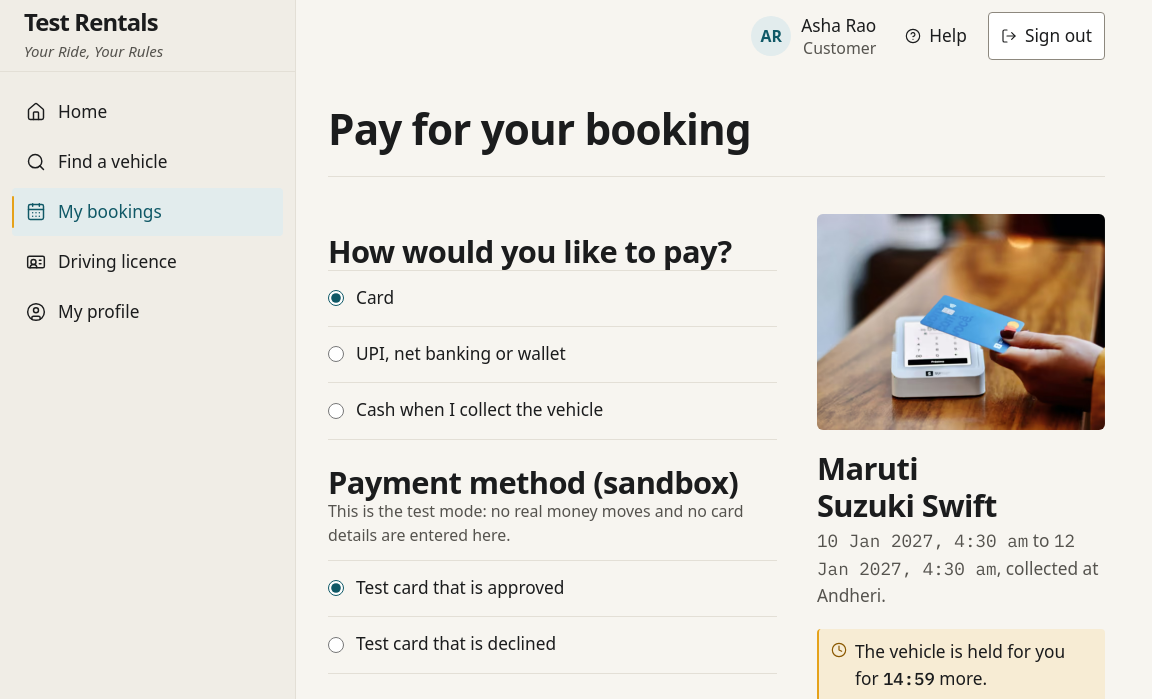
payment (Pay.Authorize, Exp 4 sequence 1) › pays with a sandbox token and the password, then confirms the booking (Pay.Confirm.OK)
Click the radio button labelled "Test card that is approved" at (336, 588), box x1=328 y1=580 x2=344 y2=596
(page scrolled)
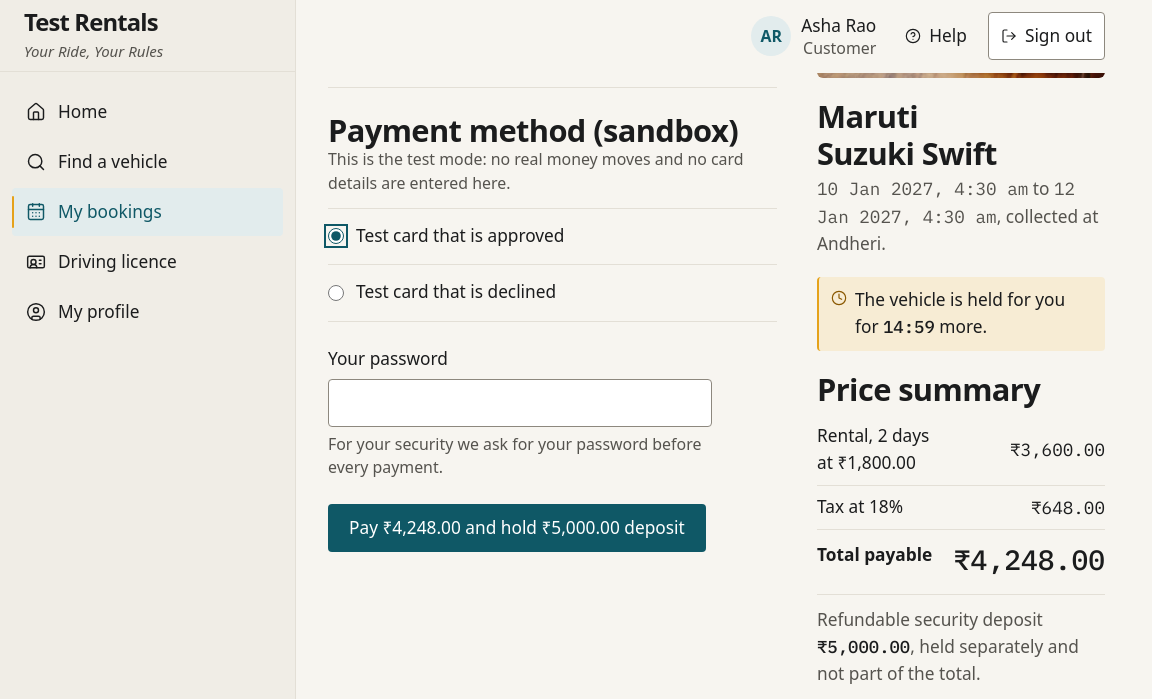
Type "Test@12345" into the password field labelled "Your password" at (520, 402), box x1=328 y1=378 x2=712 y2=426
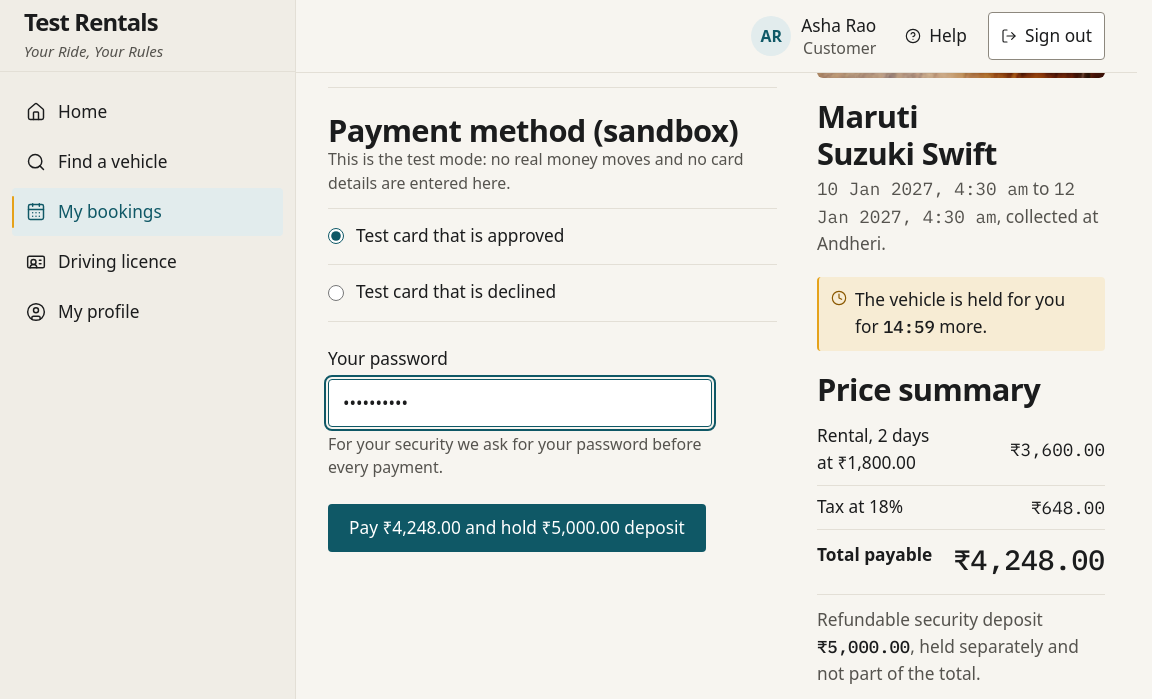
Click the button "Pay ₹4,248.00 and hold ₹5,000.00 deposit" at (517, 528), box x1=328 y1=504 x2=706 y2=552
(page scrolled)
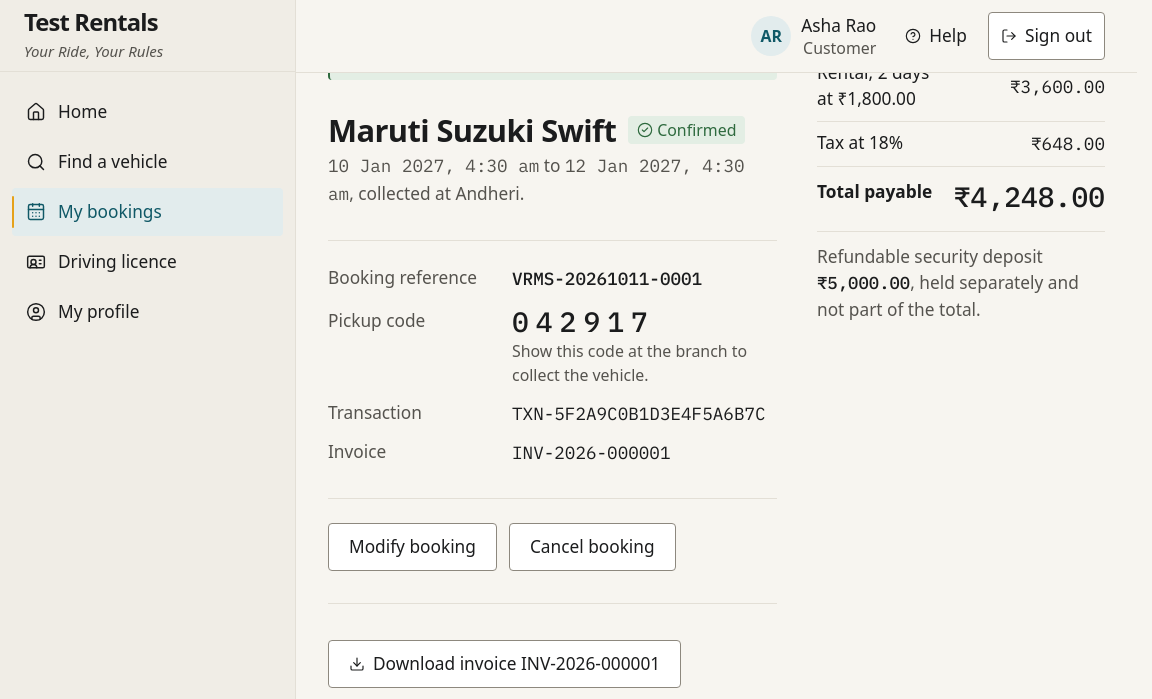
Expected: the text "VRMS-20261011-0001" is shown, x1=512 y1=267 x2=702 y2=290
Expected: the text "042917" is shown, x1=512 y1=303 x2=655 y2=340
Expected: the text "TXN-5F2A9C0B1D3E4F5A6B7C" is shown, x1=512 y1=400 x2=777 y2=427
